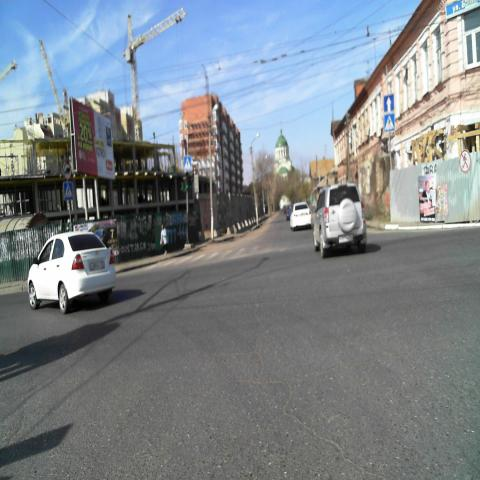3_10: (460, 148, 470, 174)
